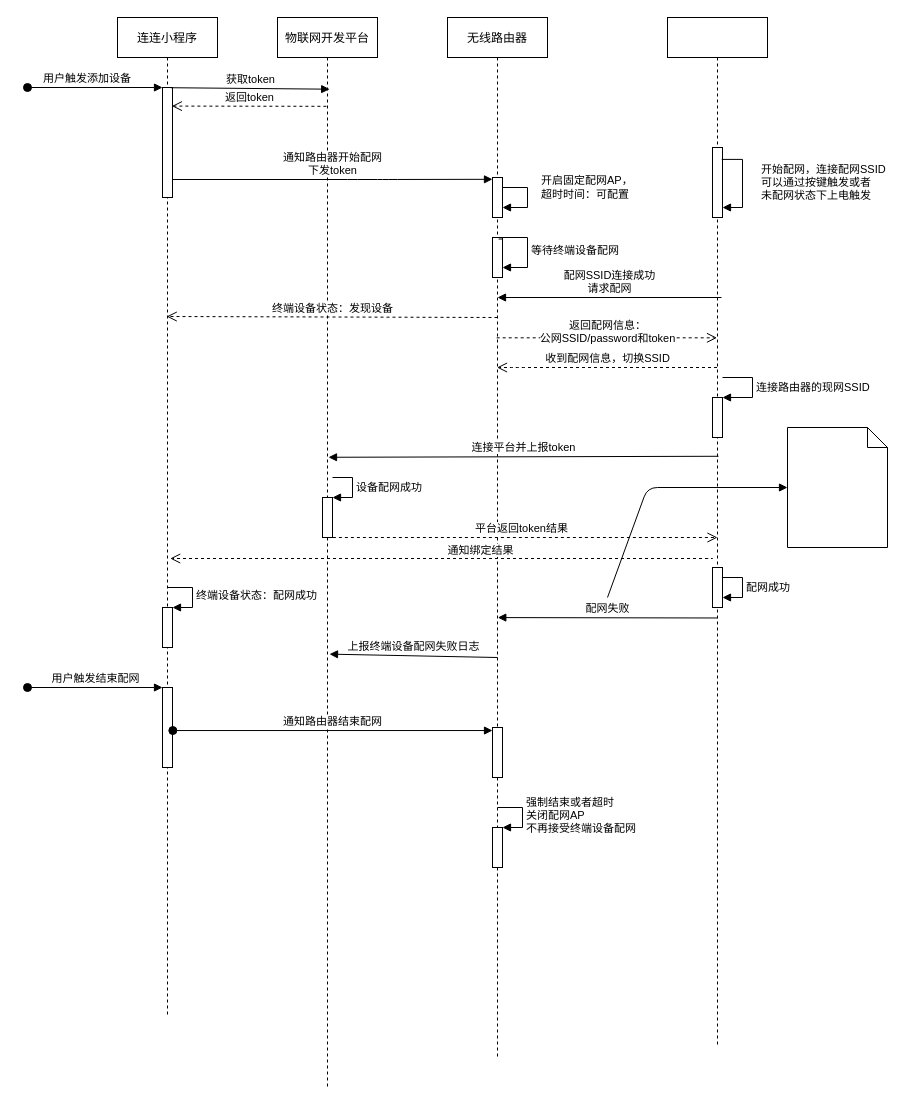
Some shapes in this 905 by 1105 pixel diagram are drawn without their labels. The centre of each missing label's shape, as x and y in pixels:
"如果无法连接SSID或者无法连接到物联平台，则认为配网失败，终端设备会切换到配网SSID网络并向路由器udp server返回失败日志" belongs at (837,487).
"终端设备1.2....10" belongs at (717,532).
